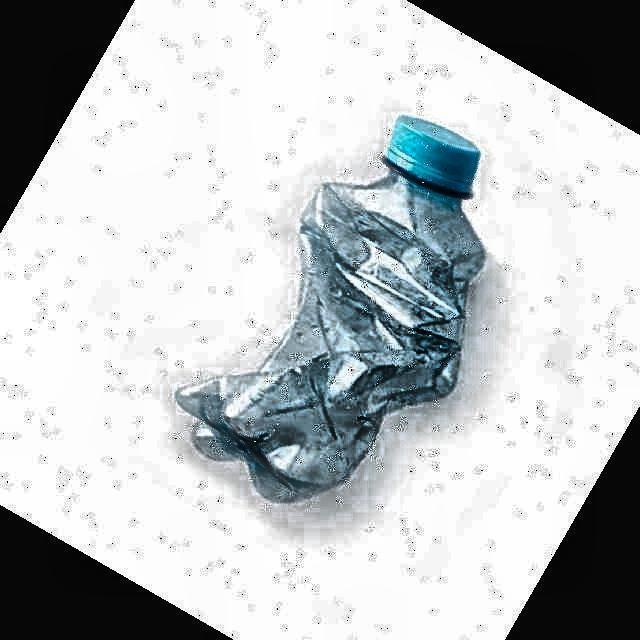plastic: (176, 115, 485, 501)
